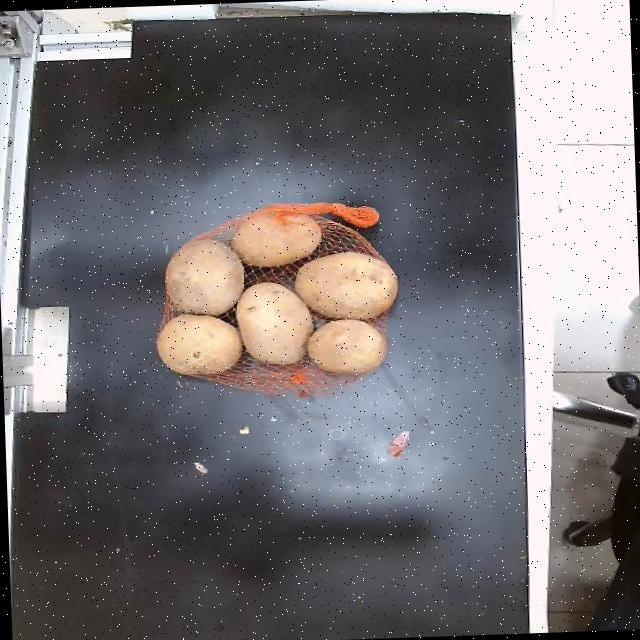potato: (295, 252, 397, 320), (236, 282, 312, 364), (165, 240, 242, 315), (156, 314, 241, 376), (232, 214, 320, 267), (306, 319, 384, 373)
